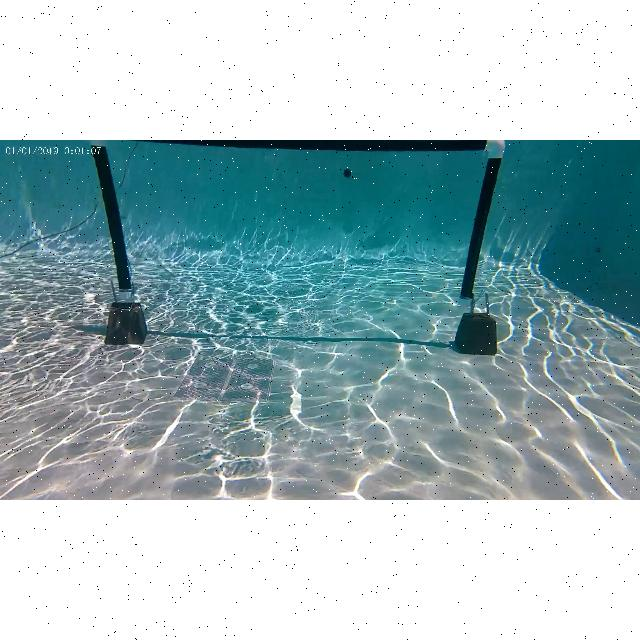prequal gate: (89, 140, 507, 302)
prequal gate leg l: (90, 146, 144, 342)
prequal gate leg r: (463, 142, 502, 352)
